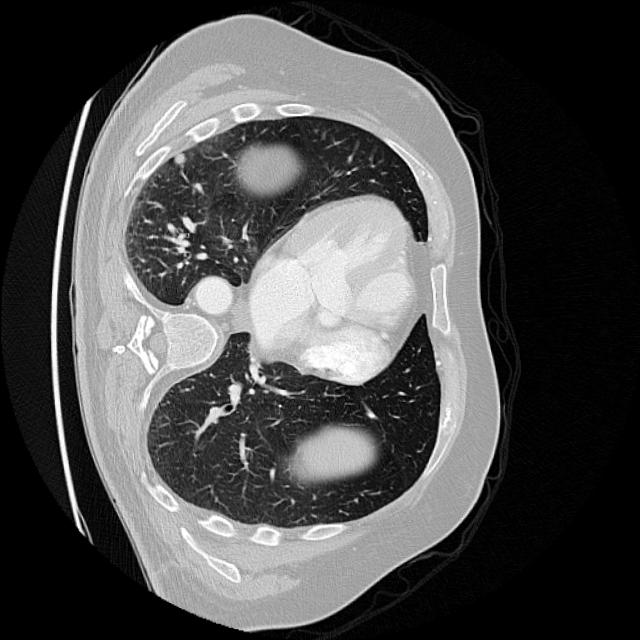nodule: (167, 146, 194, 174)
